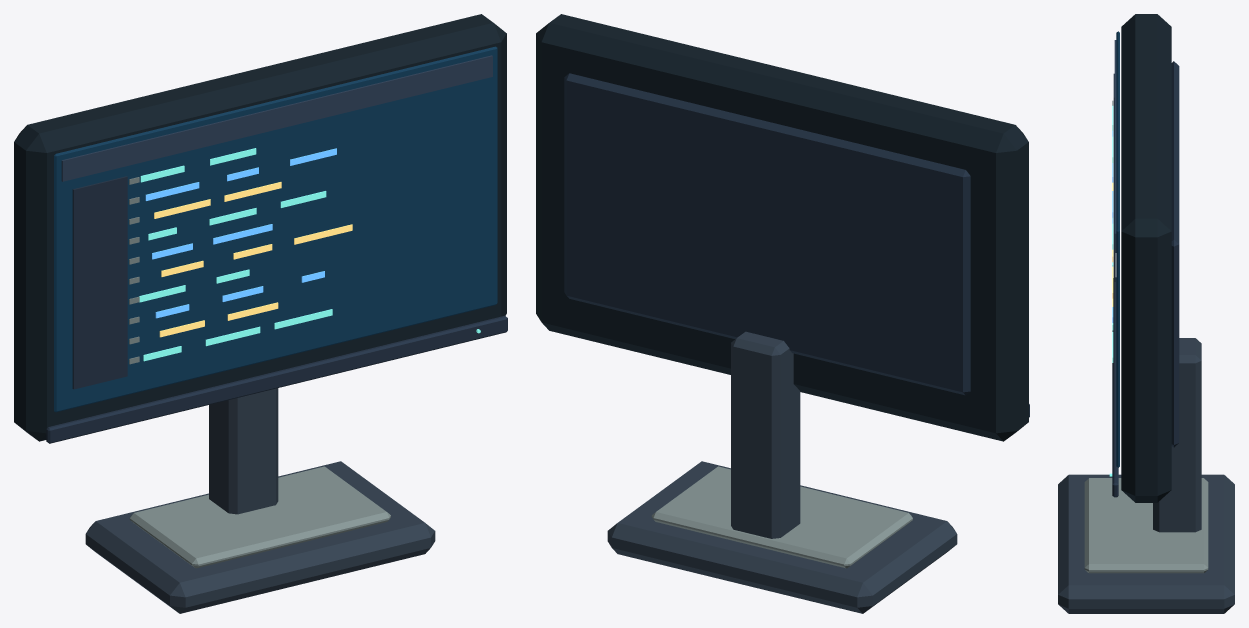
File: monitor.glb
3 renders of one model, left to right at view 1: azimuth 30°, elevation 25°; view 2: azimuth 150°, elevation 25°; view 3: azimuth 270°, elevation 25°, orthographic. The views are drawn at different scales.
Parts seen in each view (by area): view 1: monitor__screen, monitor__black, monitor__metal, monitor__navy_dark, monitor__metal_light, monitor__navy, monitor__code_teal, monitor__code_amber, monitor__code_blue; view 2: monitor__navy_dark, monitor__black, monitor__metal, monitor__metal_light; view 3: monitor__black, monitor__metal, monitor__metal_light, monitor__navy_dark, monitor__screen, monitor__navy, monitor__code_teal.
Boxes of the visible parts, x1,y1,x2,y2 form: monitor__screen: (54, 46, 497, 412); monitor__black: (14, 14, 506, 441); monitor__metal: (85, 388, 435, 613); monitor__navy_dark: (46, 176, 507, 443); monitor__metal_light: (129, 177, 390, 568); monitor__navy: (61, 55, 492, 181); monitor__code_teal: (139, 148, 480, 361); monitor__code_amber: (154, 182, 352, 337); monitor__code_blue: (145, 148, 336, 318); monitor__navy_dark: (564, 73, 1029, 417); monitor__black: (536, 14, 1028, 441); monitor__metal: (607, 331, 957, 613); monitor__metal_light: (651, 466, 912, 568); monitor__black: (1121, 14, 1171, 502); monitor__metal: (1058, 338, 1234, 613); monitor__metal_light: (1084, 100, 1208, 573); monitor__navy_dark: (1112, 61, 1179, 497); monitor__screen: (1116, 31, 1119, 467); monitor__navy: (1114, 40, 1116, 252); monitor__code_teal: (1109, 105, 1113, 476).
Size of the model in its own units: 0.58 by 0.5525 by 0.2.
